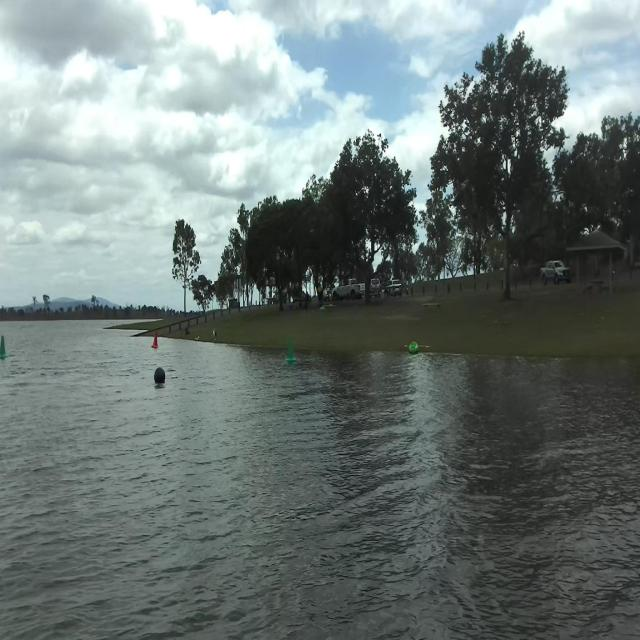Black_Buoy: (151, 359, 176, 401)
Green_Buoy: (283, 339, 296, 366), (0, 334, 10, 360)
Red_Buoy: (152, 330, 159, 352)
